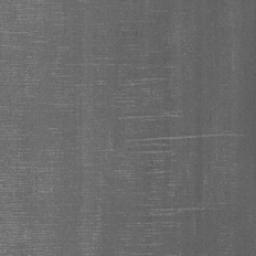Waist folding: (0, 129, 256, 208), (0, 179, 234, 256), (25, 52, 212, 122), (0, 0, 88, 51), (0, 126, 59, 138), (97, 20, 144, 33), (155, 8, 188, 15), (59, 45, 94, 51), (44, 102, 73, 109)
